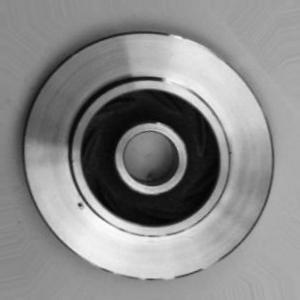defect: (66, 187, 94, 222)
